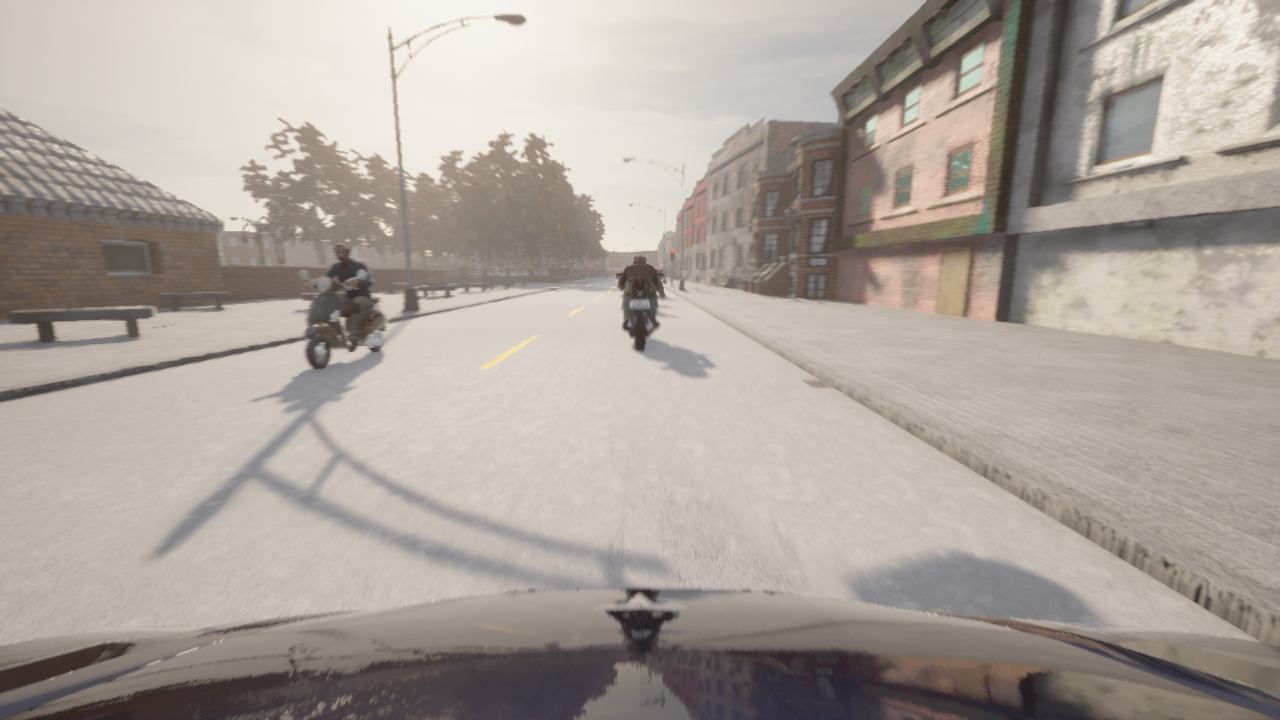cyclist: (0, 588, 1279, 719), (300, 270, 387, 369), (616, 273, 663, 350), (659, 269, 664, 296)
pedestrian: (429, 273, 437, 292)
